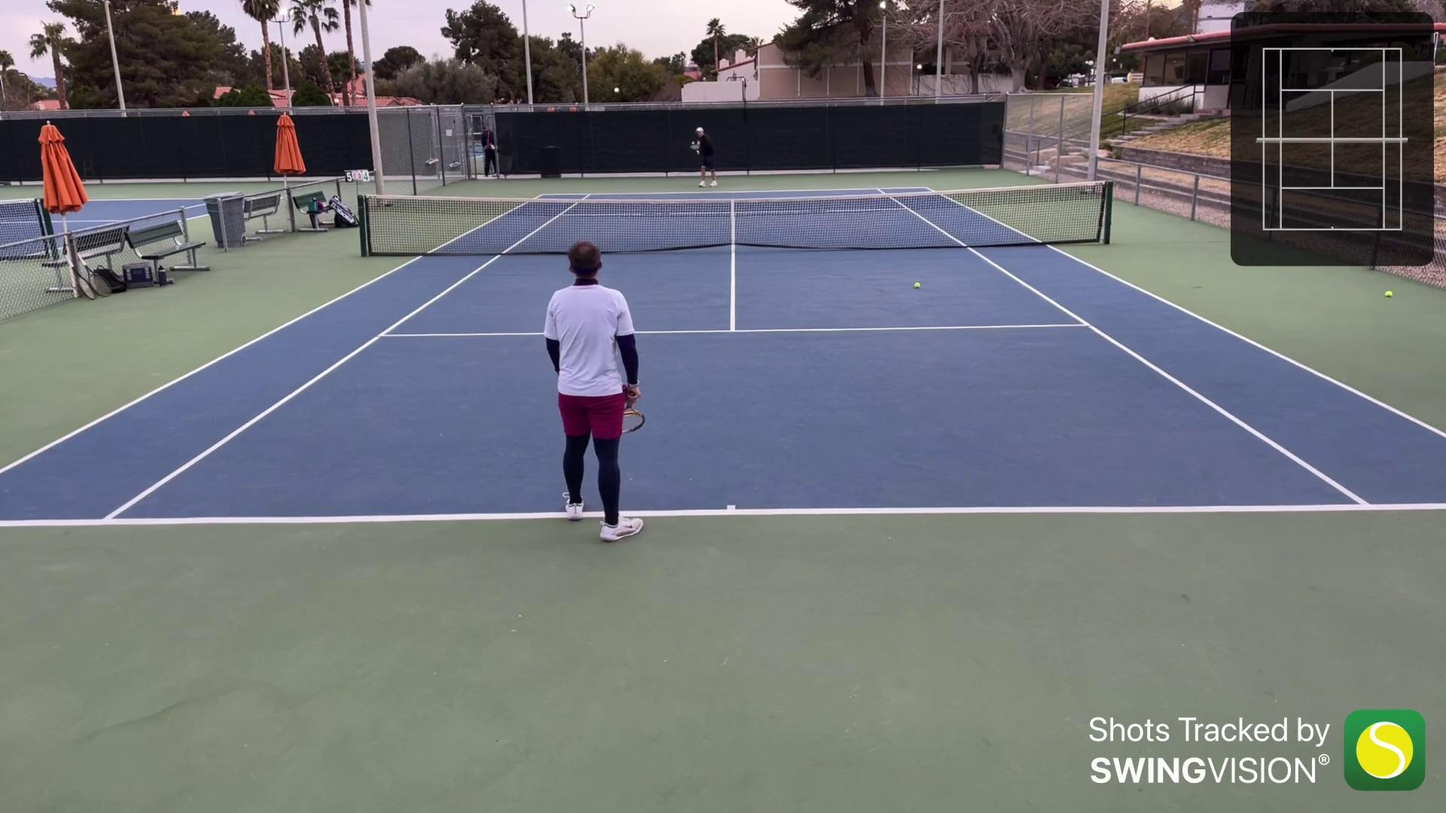ball: (911, 281, 921, 292), (690, 140, 696, 146)
